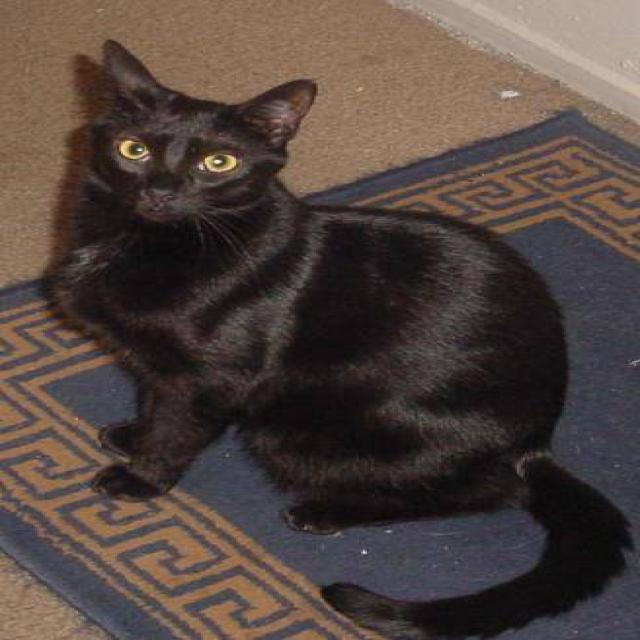cat: (39, 37, 634, 639)
